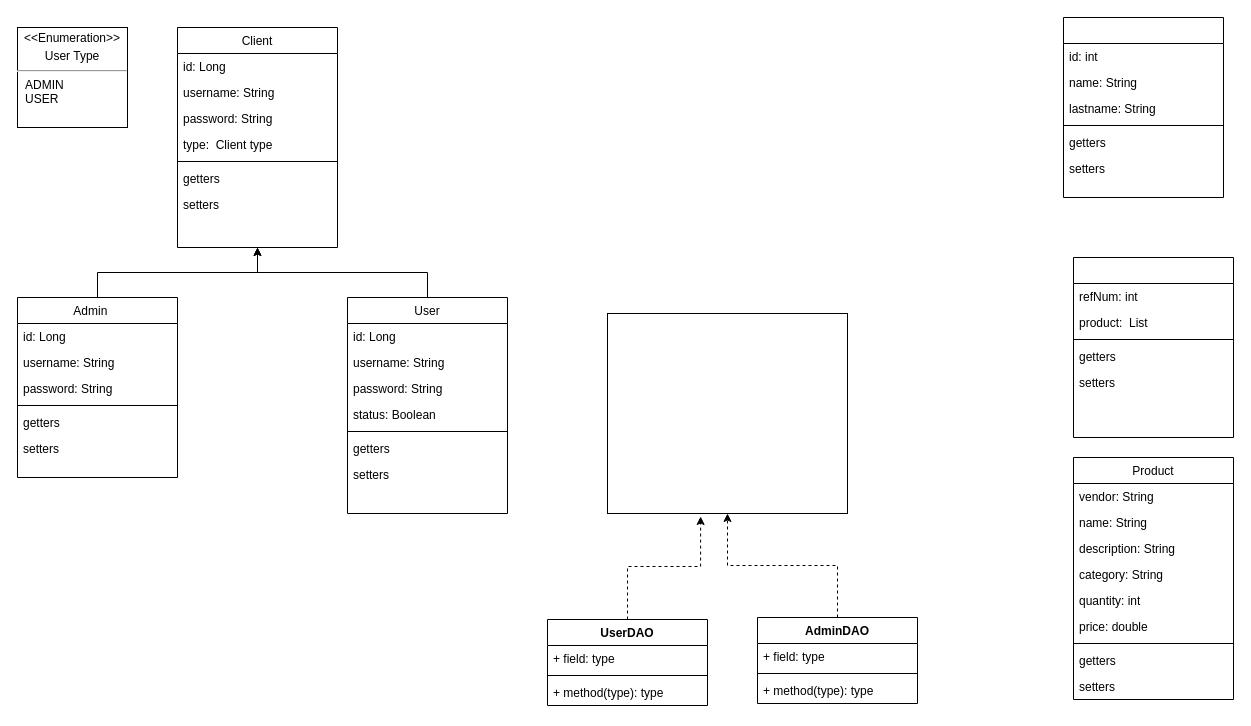
Some shapes in this 1251 by 726 pixel diagram are drawn without their labels. Each missing label, with the box of its shape:
<<Interface>> DAO + add() + delete() + update() + getAll(): (606, 312, 848, 514)
Customer: (1062, 16, 1224, 198)
Transaction: (1072, 256, 1234, 438)
